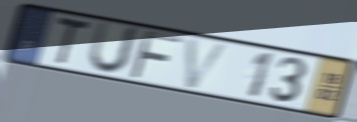1: (243, 50, 277, 99)
3: (268, 56, 311, 105)
F: (127, 28, 185, 82)
T: (53, 14, 93, 68)
U: (85, 20, 143, 77)
V: (182, 36, 233, 91)
